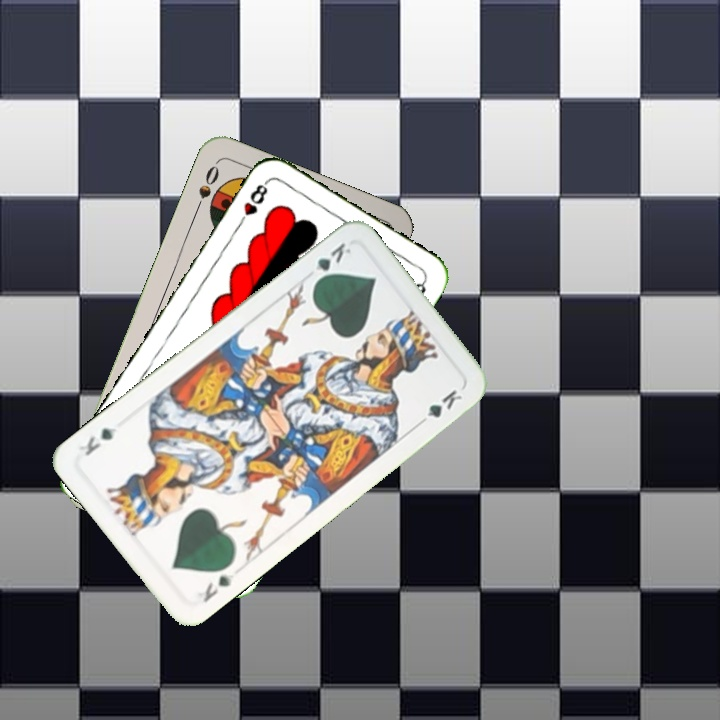GK: (309, 238, 354, 287), (194, 568, 237, 605)
H8: (233, 177, 271, 230)
SO: (191, 158, 222, 215)
